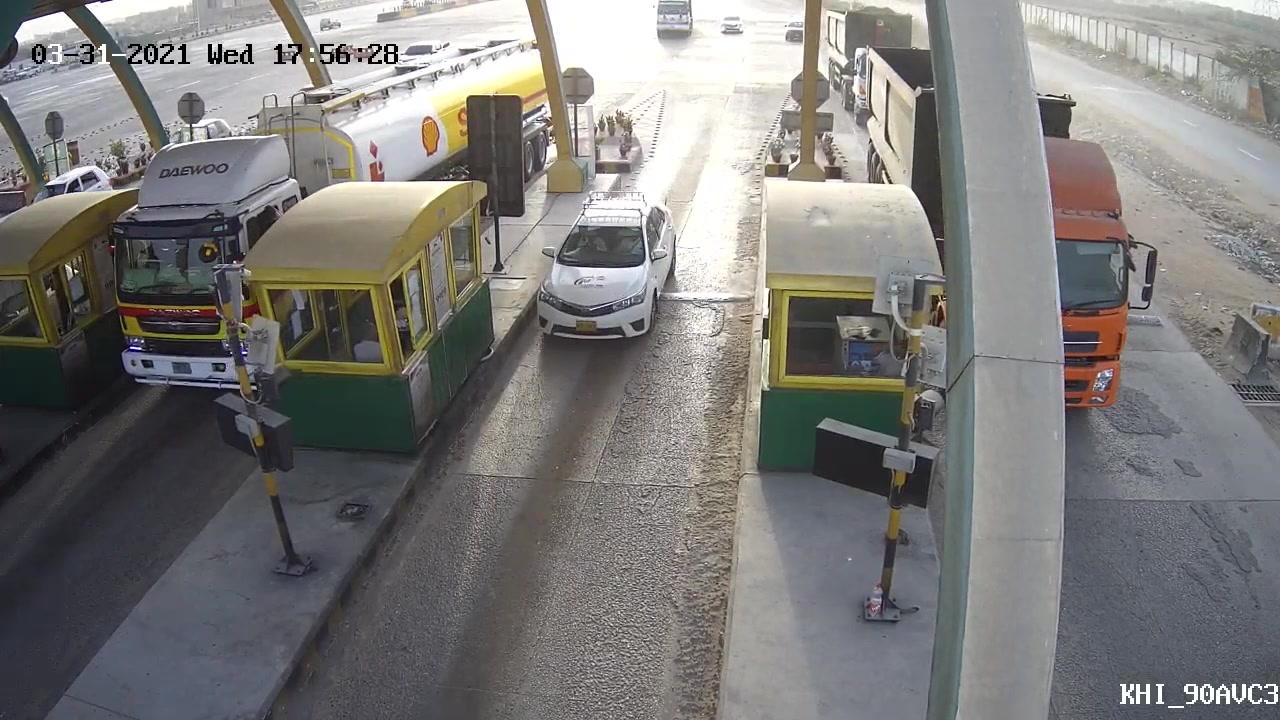F1: (531, 186, 681, 347)
